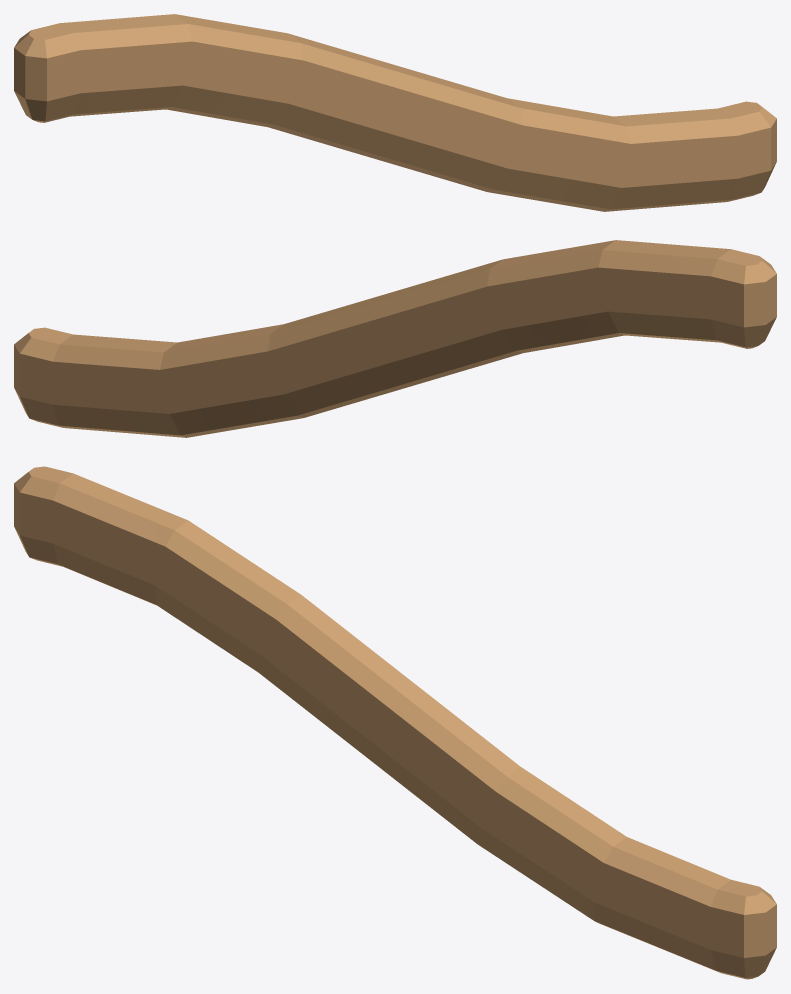
File: Balcony_Base_Bridge_Ramp.fbx
The picture shows the model from 3 angles, top to bottom: view 1: azimuth 30°, elevation 25°; view 2: azimuth 150°, elevation 25°; view 3: azimuth 330°, elevation 25°; orthographic projection.
Parts seen in each view (by area): view 1: object1; view 2: object1; view 3: object1.
Boxes of the visible parts, <box> form: object1: <box>14,14,776,211</box>; object1: <box>14,240,776,437</box>; object1: <box>14,466,776,979</box>.
Size of the model in its own units: 3.2 by 1.35 by 0.2.
